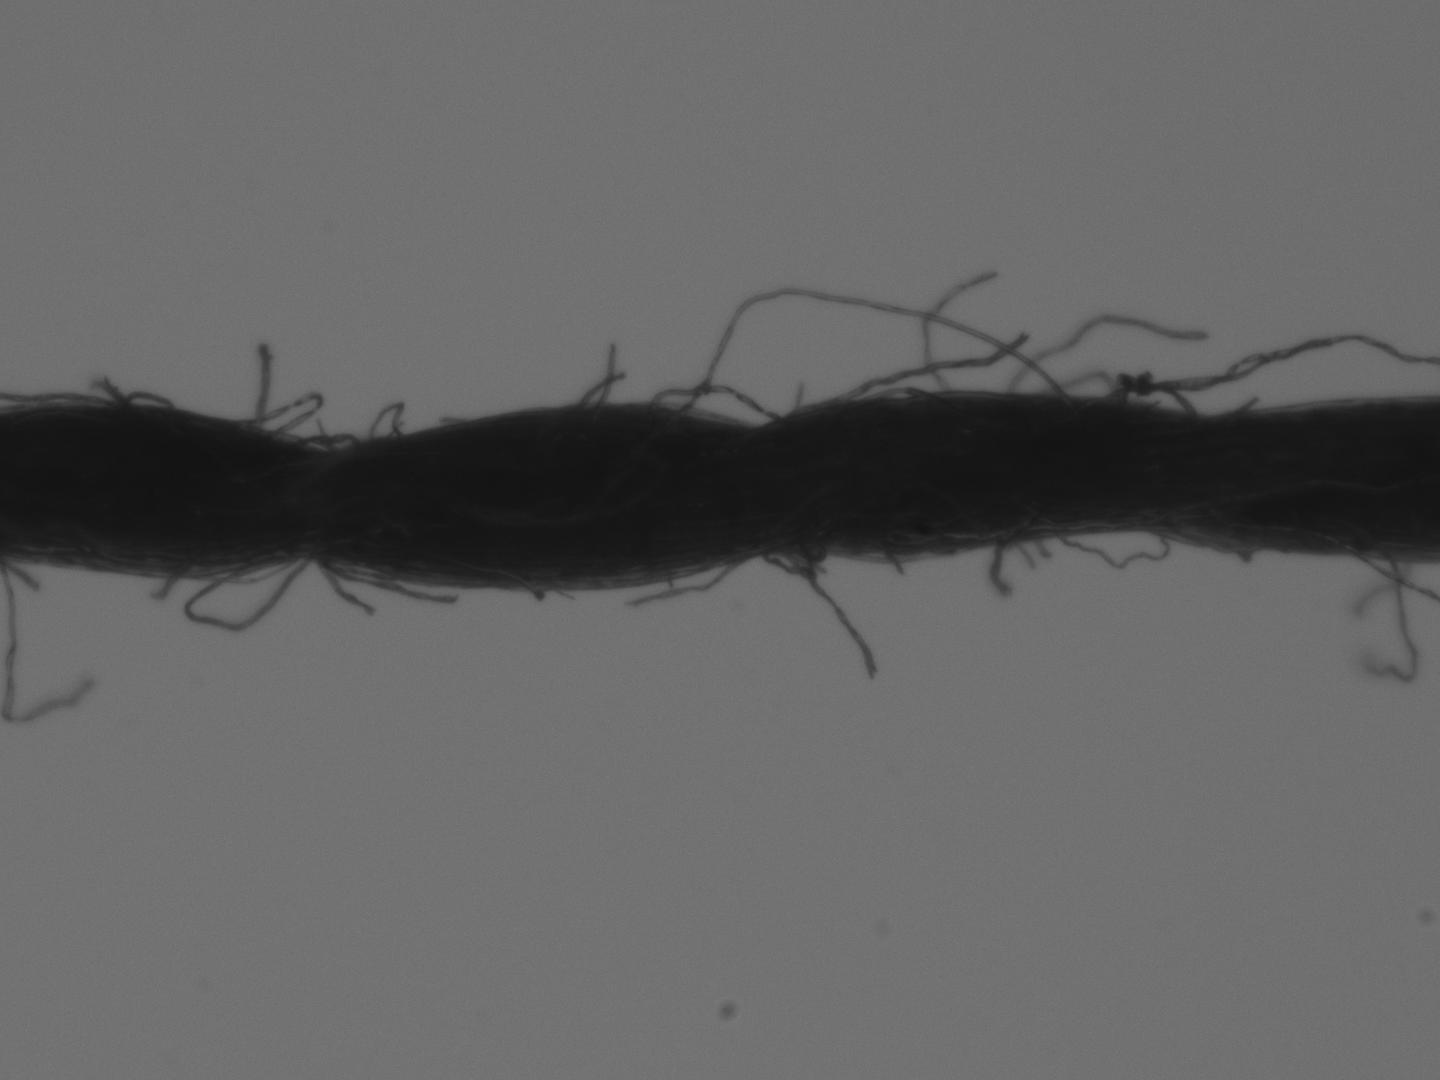loop_fiber: (679, 281, 1059, 421), (183, 556, 308, 633), (647, 379, 785, 423), (1098, 365, 1201, 417), (1053, 532, 1171, 573), (232, 389, 329, 439), (366, 397, 413, 447), (103, 385, 175, 416), (757, 543, 822, 577), (295, 429, 355, 457)
protruding_fiber: (801, 549, 881, 686), (247, 343, 272, 437)
